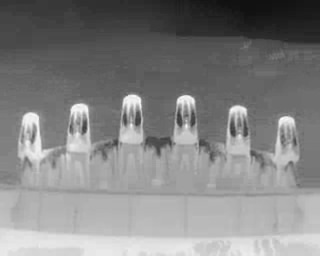claw: (173, 93, 201, 148), (226, 104, 252, 157), (66, 102, 91, 157), (120, 92, 144, 147), (276, 115, 301, 167), (17, 111, 40, 163)
